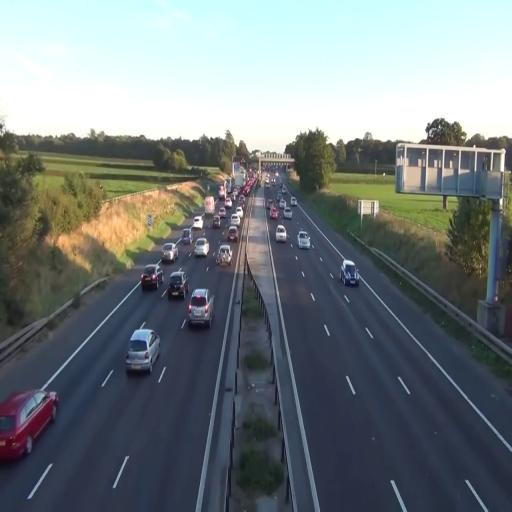vehicle: (0, 387, 59, 464), (126, 326, 160, 374), (186, 288, 214, 328), (167, 270, 187, 302), (340, 259, 360, 287), (140, 266, 160, 292), (216, 244, 232, 268), (161, 243, 178, 263), (194, 238, 210, 258), (298, 230, 311, 249), (226, 225, 239, 244), (275, 223, 287, 243), (268, 203, 278, 221)
